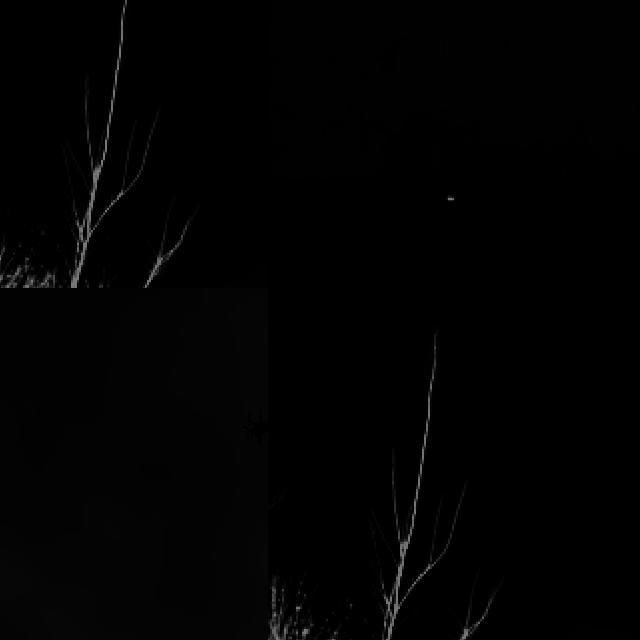1: (441, 186, 467, 210)
drone: (240, 407, 268, 451)
